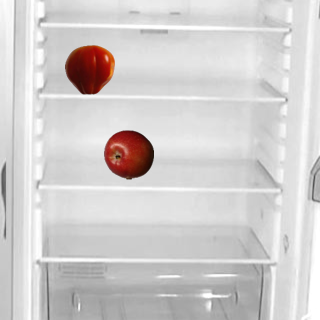Apple Braeburn: (103, 129, 153, 179)
Tomato 1: (64, 44, 114, 94)
